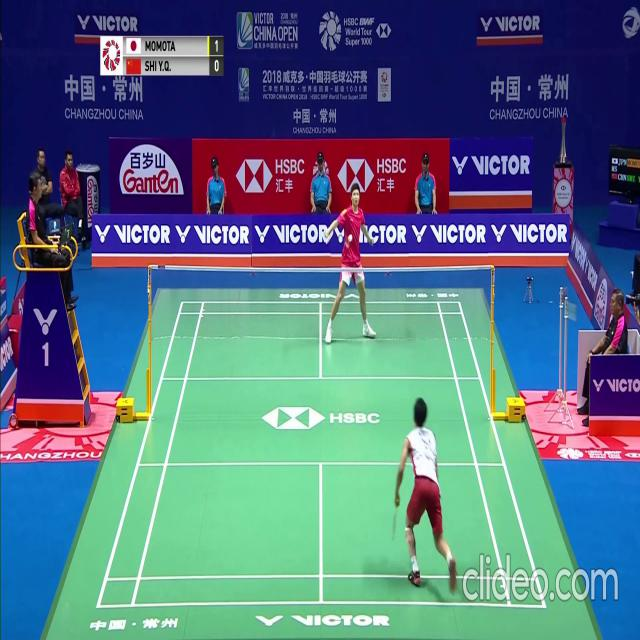Shuttlecock: (347, 235, 352, 243)
